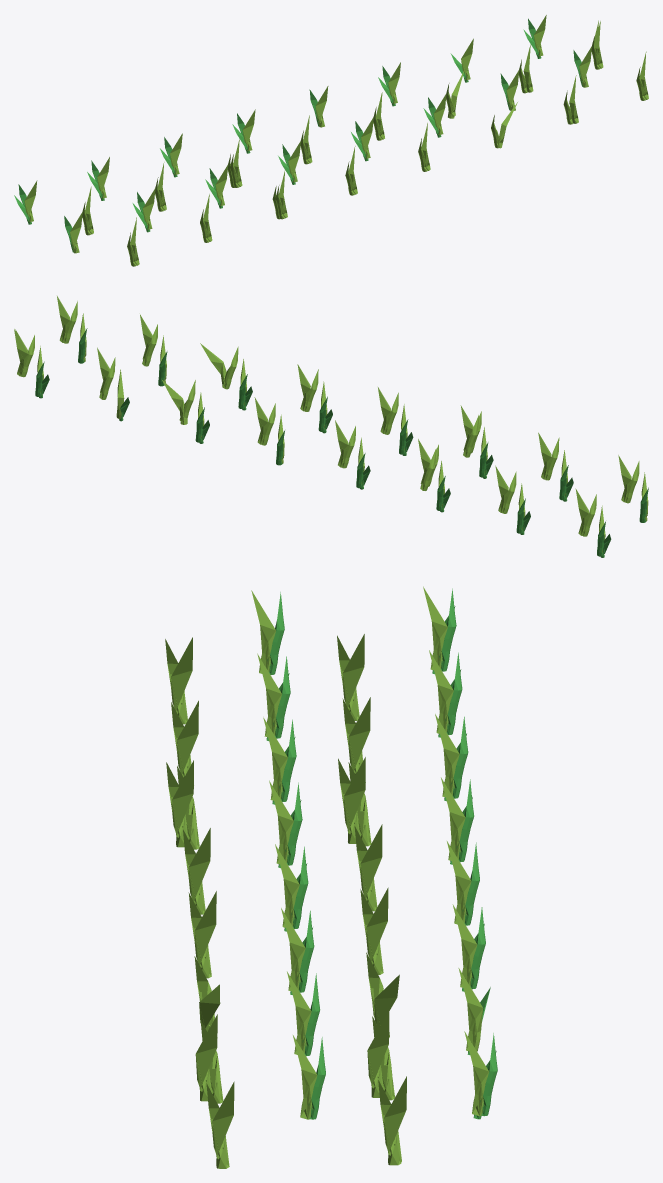
File: model-triangulated.obj
3 renders of one model, top to bottom at view 1: azimuth 30°, elevation 25°; view 2: azimuth 150°, elevation 25°; view 3: azimuth 270°, elevation 25°, orthographic. The views are drawn at different scales.
Visible parts, largest first — view 1: no part large enough to name; view 2: no part large enough to name; view 3: group1324400598, group1327756068, group547902353, group166469052, group233472412, group74264672, group557533747, group587316147, group1232464719, group1269058193, group607219583, group1763251369 (+5 smaller).
Part boxes in pixels (box(x1,y1,x2,y2)): group1324400598: box(212, 1081, 234, 1168); group1327756068: box(384, 1078, 405, 1165); group547902353: box(367, 1011, 389, 1097); group166469052: box(194, 891, 216, 978); group233472412: box(360, 824, 382, 911); group74264672: box(366, 887, 388, 974); group557533747: box(195, 1014, 217, 1101); group587316147: box(188, 828, 210, 914); group1232464719: box(342, 634, 364, 720); group1269058193: box(343, 757, 365, 843); group607219583: box(172, 760, 193, 847); group1763251369: box(171, 637, 192, 724).
Bounding box in the file's own units: 0.6204 × 0.0839 × 0.1549.
